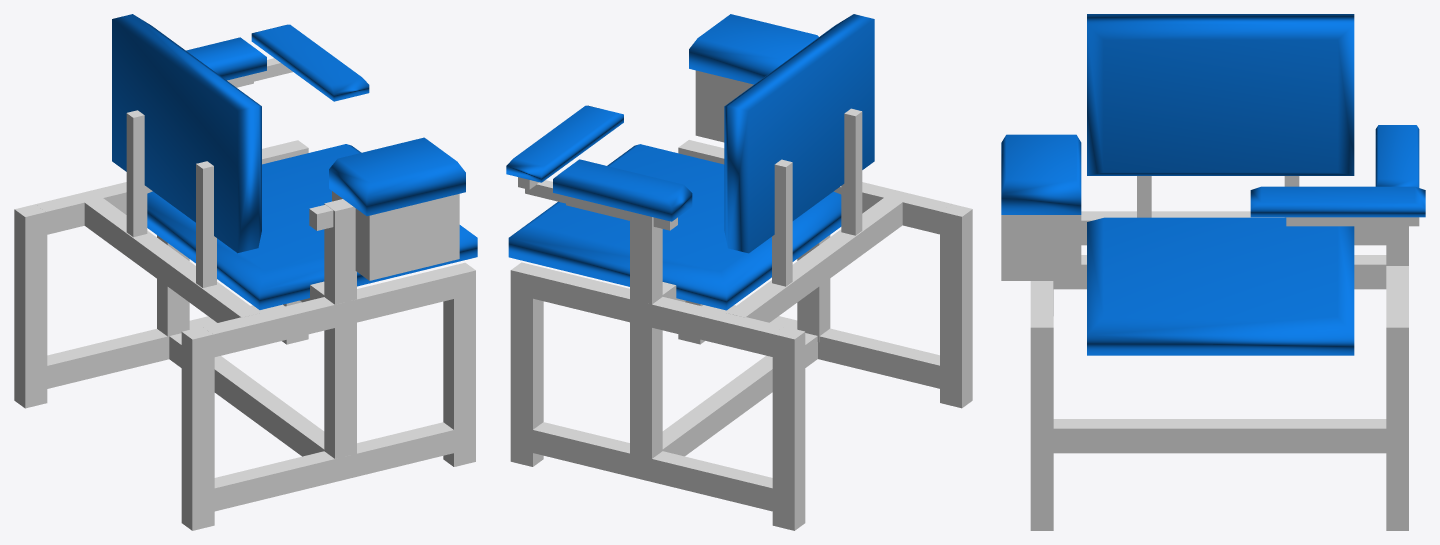
File: Phlebotomy Chair 2.fbx
3 renders of one model, left to right at view 1: azimuth 30°, elevation 25°; view 2: azimuth 150°, elevation 25°; view 3: azimuth 270°, elevation 25°, orthographic. The views are drawn at different scales.
Parts seen in each view (by area): view 1: Side Brace, Cube, Arm Rest Brace, Cube.001, Back Mount BRace, Cube.003, Cube.006, Cube.002; view 2: Side Brace, Cube, Cube.001, Arm Rest Brace, Back Mount BRace, Cube.003, Cube.002, Cube.006; view 3: Cube, Cube.001, Side Brace, Arm Rest Brace, Cube.003, Cube.006, Back Mount BRace, Cube.002, Cube.004.
Boxes of the visible parts, box(x1,y1,x2,y2) form: Side Brace: box(14, 140, 475, 530); Cube: box(112, 14, 261, 253); Arm Rest Brace: box(157, 74, 356, 458); Cube.001: box(147, 144, 477, 309); Back Mount BRace: box(84, 110, 259, 322); Cube.003: box(329, 137, 465, 216); Cube.006: box(251, 24, 369, 101); Cube.002: box(186, 37, 266, 80); Side Brace: box(510, 70, 972, 530); Cube: box(724, 14, 874, 253); Cube.001: box(508, 144, 841, 310); Arm Rest Brace: box(566, 196, 830, 458); Back Mount BRace: box(727, 108, 902, 322); Cube.003: box(689, 14, 818, 84); Cube.002: box(553, 159, 692, 221); Cube.006: box(506, 105, 623, 182); Cube: box(1087, 14, 1354, 175); Cube.001: box(1087, 217, 1354, 355); Side Brace: box(1001, 215, 1408, 530); Arm Rest Brace: box(1053, 226, 1408, 453); Cube.003: box(1001, 134, 1081, 214); Cube.006: box(1250, 186, 1425, 217); Back Mount BRace: box(1081, 176, 1386, 245); Cube.002: box(1375, 125, 1419, 187); Cube.004: box(1286, 217, 1419, 226).
Size of the model in its own units: 233 by 274 by 259.
